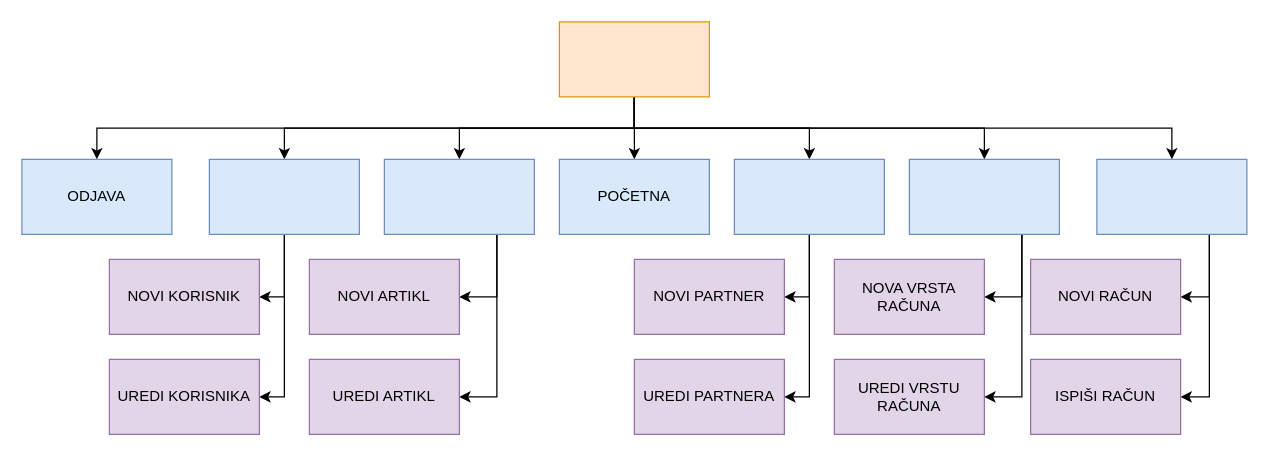
The diagram is 1269 pixels wide and 456 high, and some of its shapes have lost their labels. The box of each missing label's shape, as (x1, y1, x2, y2) in pixels:
ARTIKLI: (383, 158, 534, 234)
KORISNICI: (208, 158, 359, 234)
PARTNERI: (733, 158, 884, 234)
PRIJAVA: (558, 21, 709, 97)
RAČUNI: (1096, 158, 1247, 234)
VRSTE RAČUNA: (908, 158, 1059, 234)
